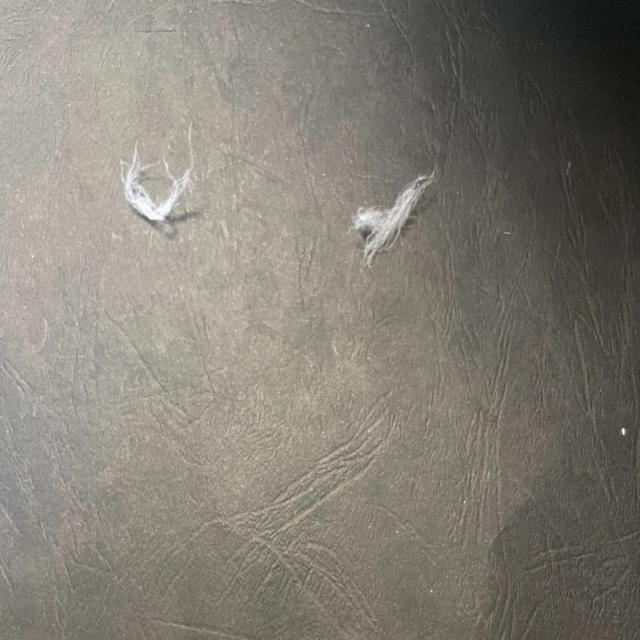feather: (346, 168, 431, 264), (119, 127, 200, 225)
